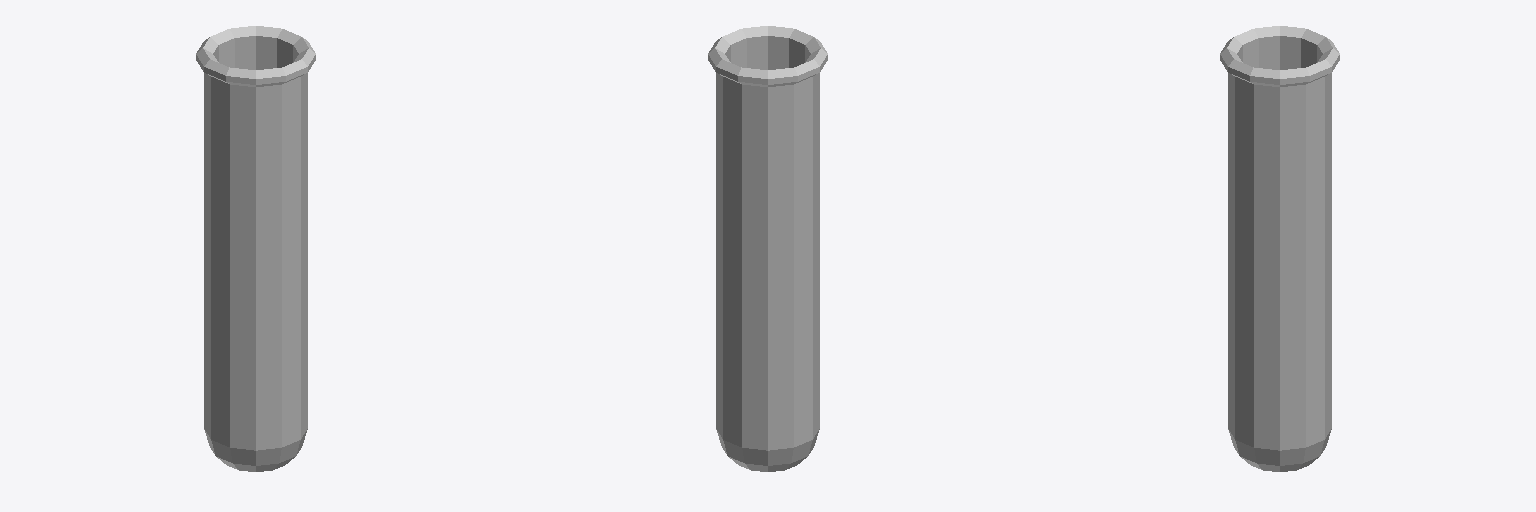
File: testtube.obj
The picture shows the model from 3 angles: view 1: azimuth 30°, elevation 25°; view 2: azimuth 150°, elevation 25°; view 3: azimuth 270°, elevation 25°; orthographic projection.
Visible parts, largest first — view 1: group[number redacted]; view 2: group[number redacted]; view 3: group[number redacted].
Part boxes in pixels (left/top/right/bottom): group[number redacted]: left=196, top=26, right=315, bottom=471; group[number redacted]: left=708, top=26, right=827, bottom=471; group[number redacted]: left=1220, top=26, right=1339, bottom=471.
Bounding box in the file's own units: 0.186 × 0.71 × 0.186.